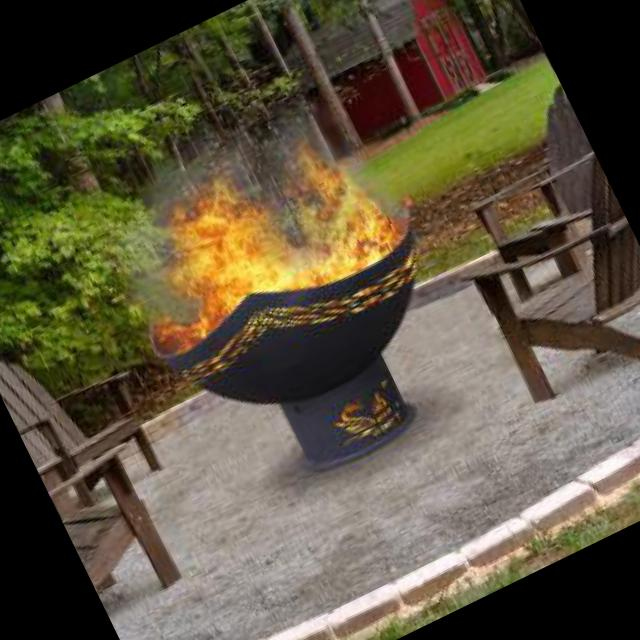fire: (130, 105, 410, 363)
smoke: (92, 198, 212, 356)
